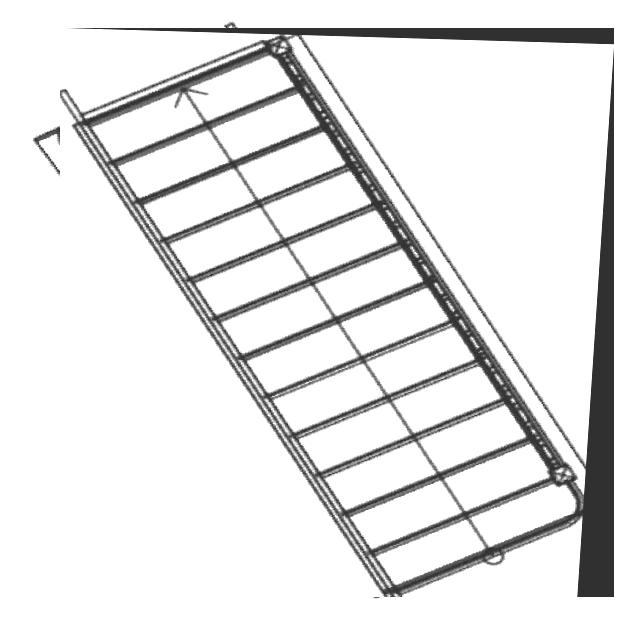stair: (61, 28, 614, 597)
